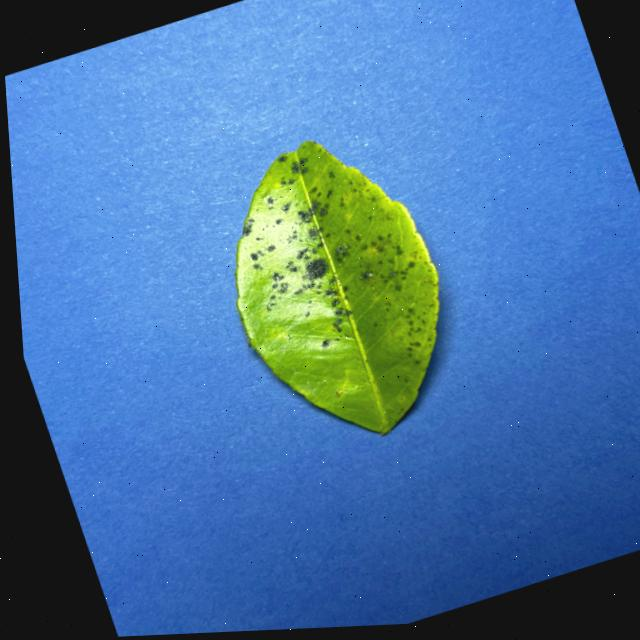sooty_mold: (234, 140, 437, 433)
